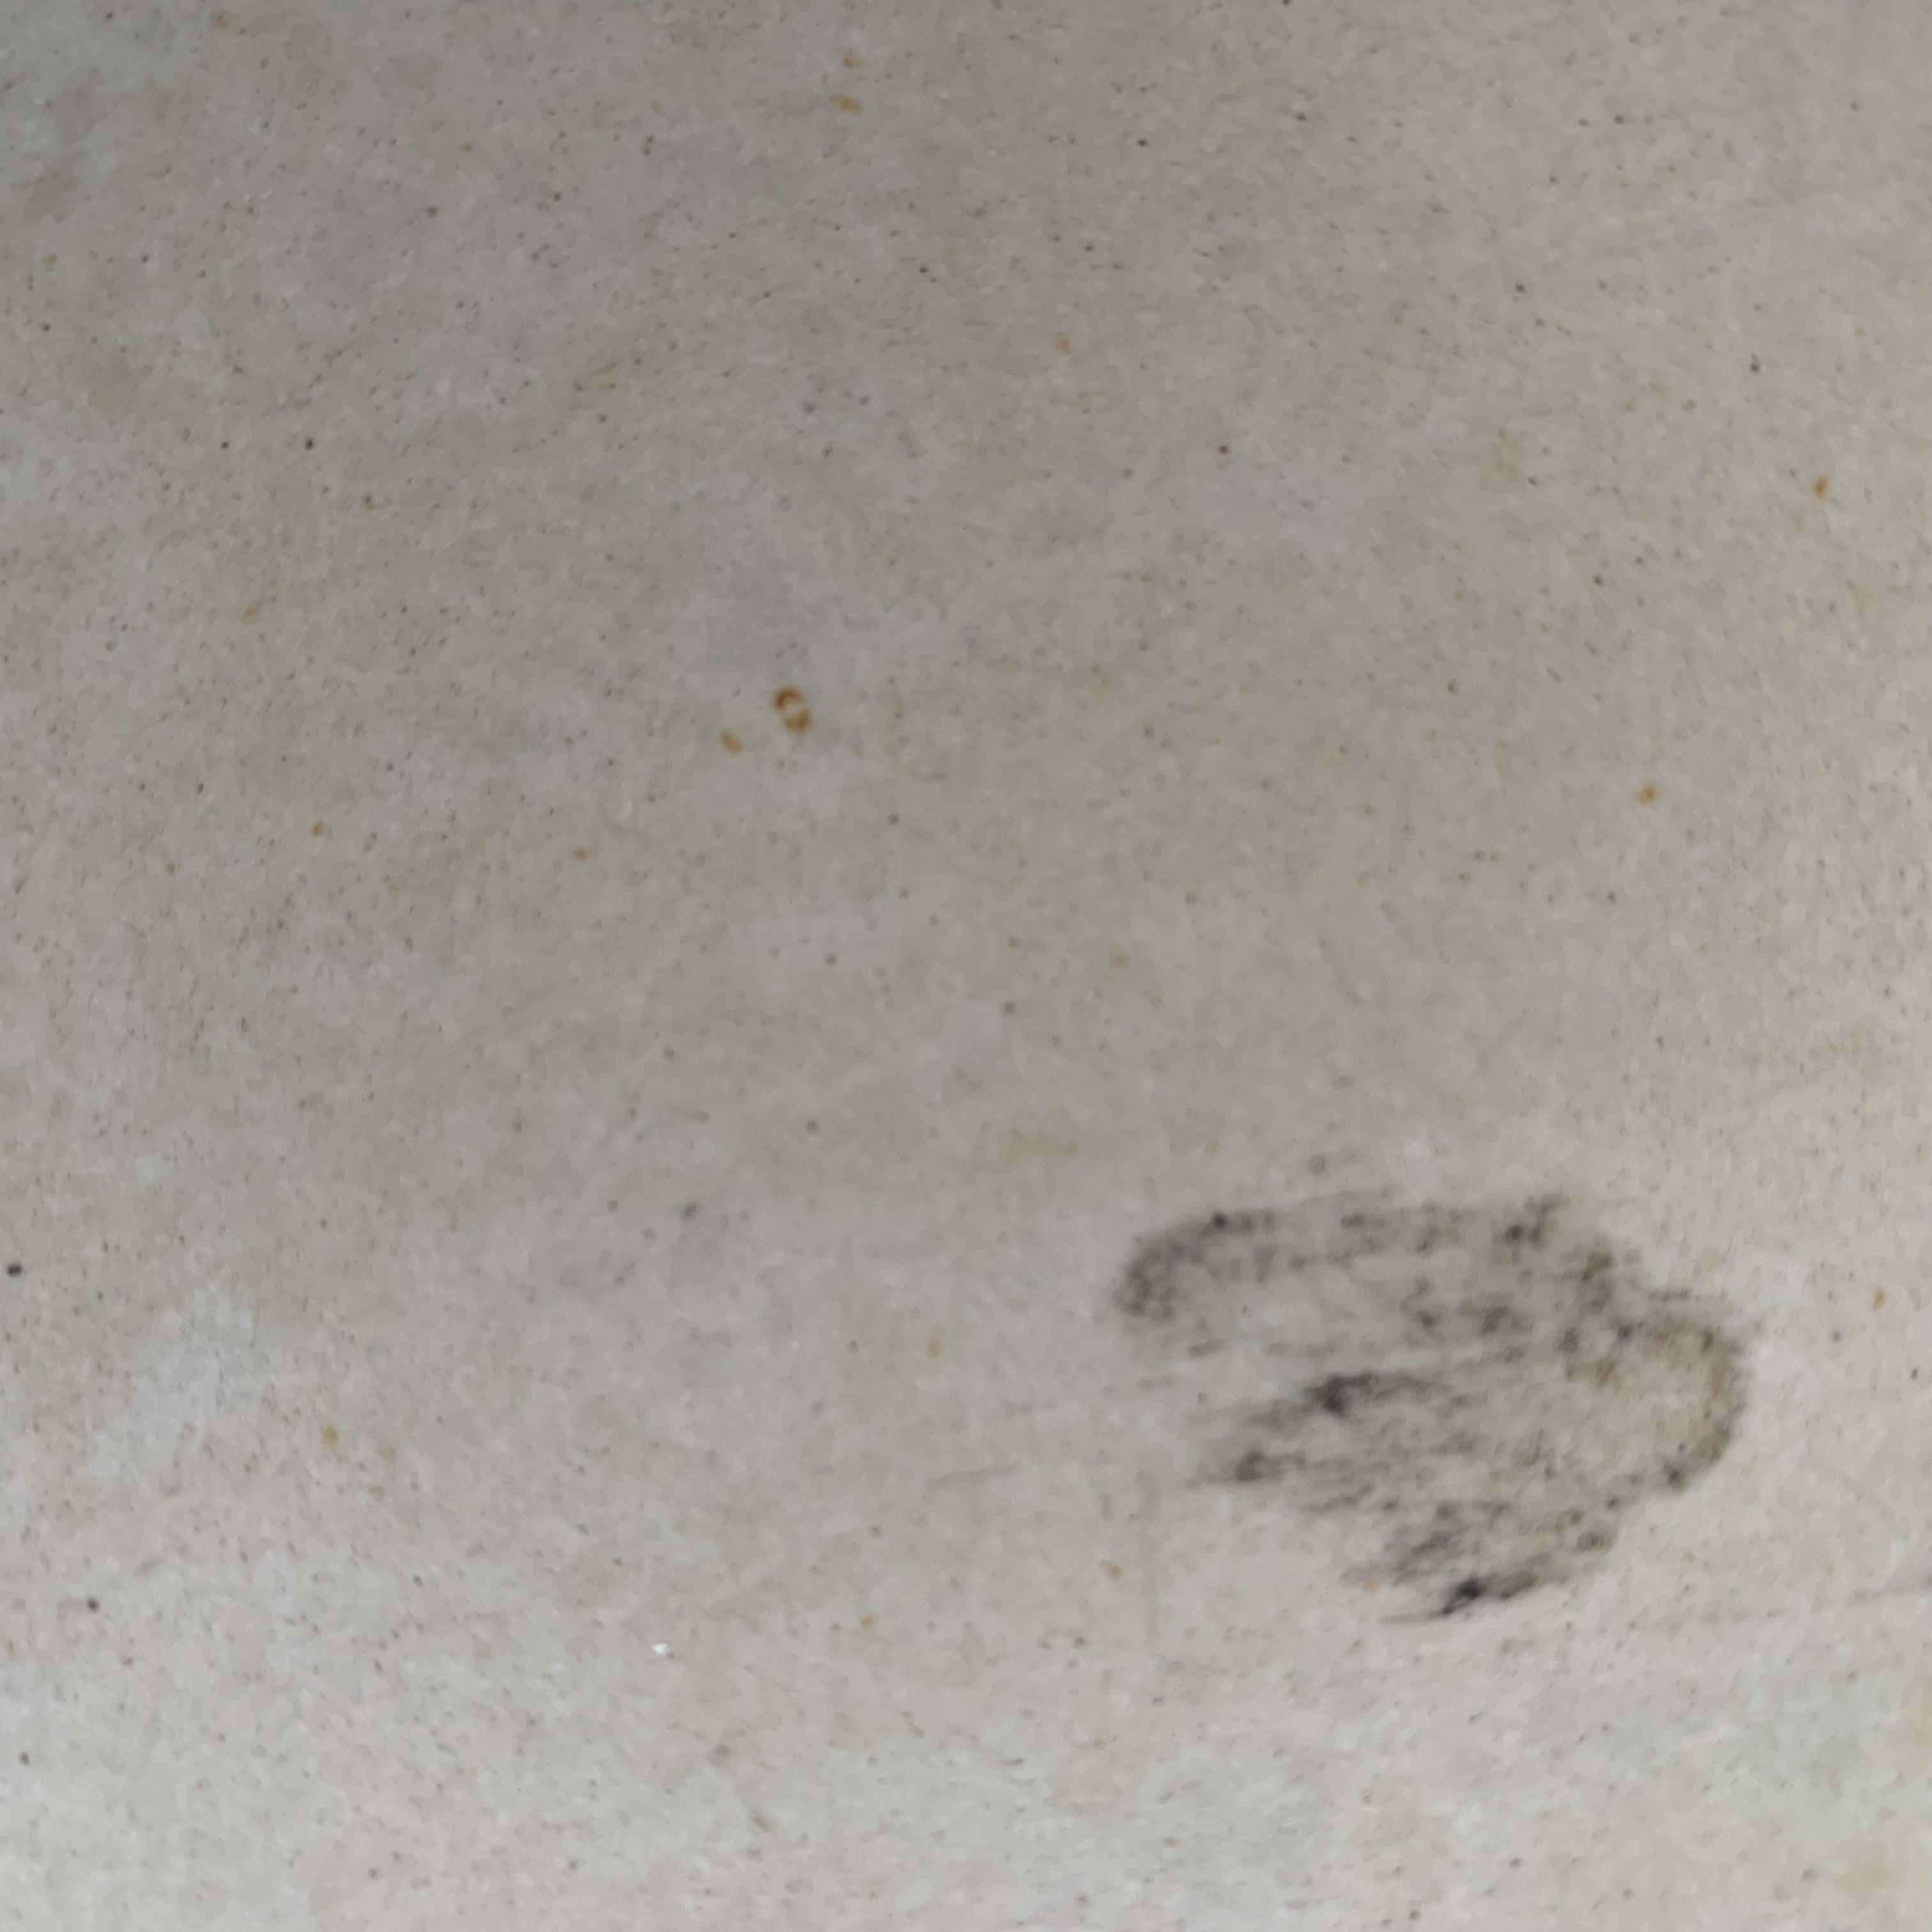grey spot: (1115, 1187, 1753, 1631)
